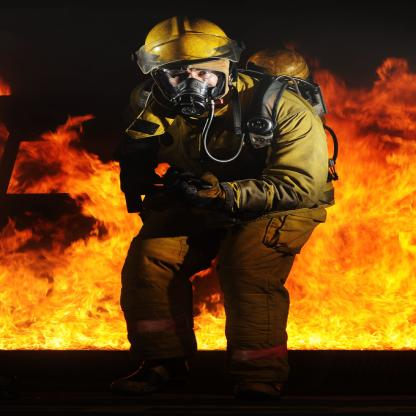Helmet: (142, 13, 240, 130)
